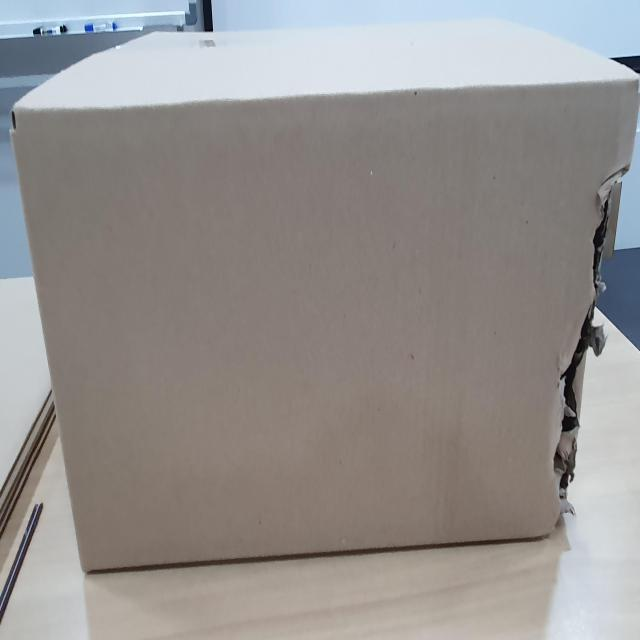damaged: (542, 168, 614, 480)
